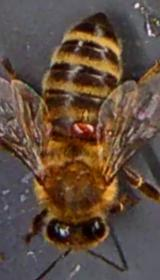varroa_mite: (64, 116, 102, 142)
